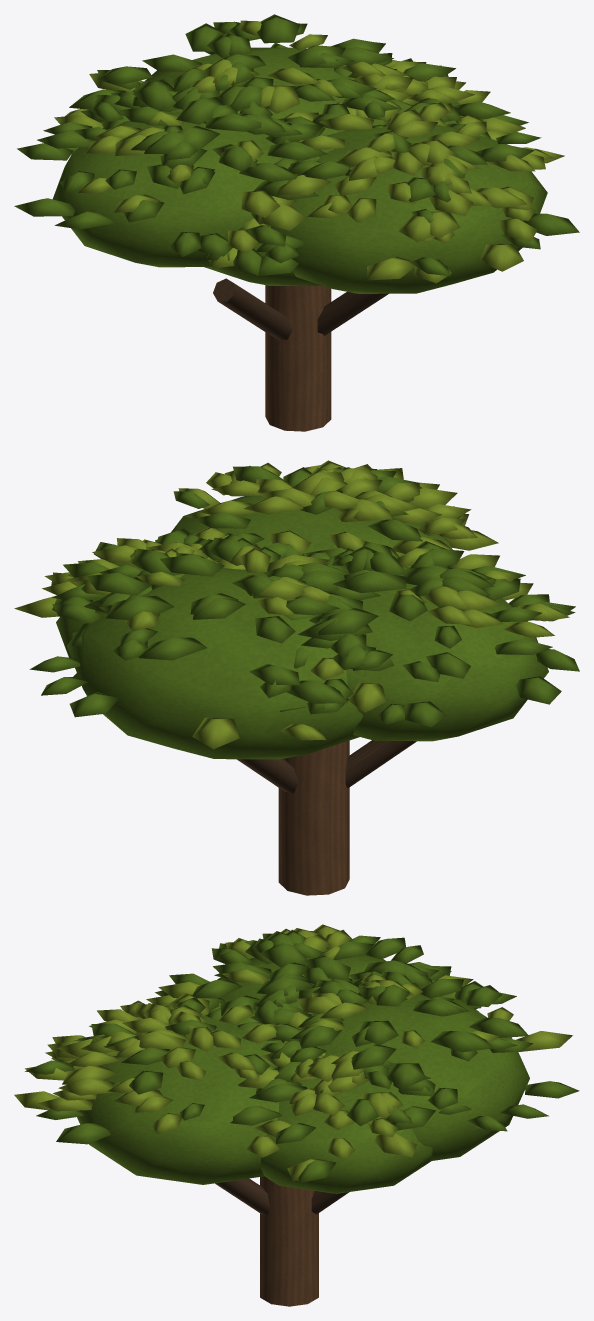
Rendered from tree-2.fbx.
The picture shows the model from 3 angles, top to bottom: view 1: azimuth 30°, elevation 25°; view 2: azimuth 150°, elevation 25°; view 3: azimuth 270°, elevation 25°; orthographic projection. The views are drawn at different scales.
Parts seen in each view (by area): view 1: tree-2__Geometry; view 2: tree-2__Geometry; view 3: tree-2__Geometry.
Boxes of the visible parts, <box> form: tree-2__Geometry: <box>14,14,579,431</box>; tree-2__Geometry: <box>14,460,579,895</box>; tree-2__Geometry: <box>14,924,579,1306</box>.
Size of the model in its own units: 2.89 by 1.84 by 3.09.
